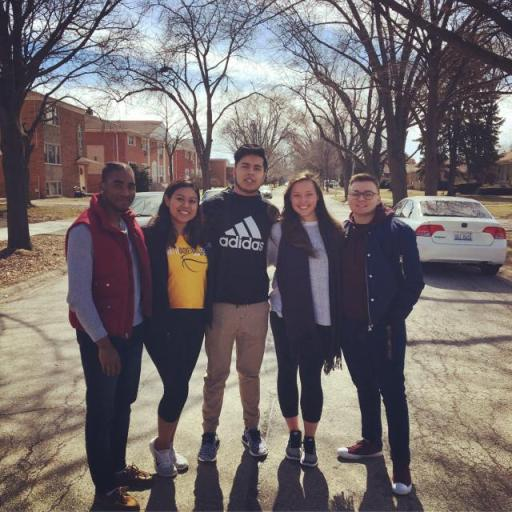Adidas: (216, 214, 266, 253)
